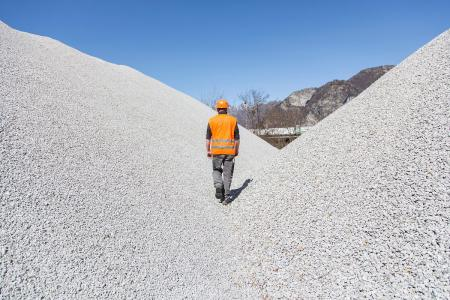boots: (222, 195, 233, 205), (215, 188, 223, 200)
hard-hat: (214, 99, 228, 108)
person: (204, 99, 239, 205)
vest: (205, 114, 236, 153)
